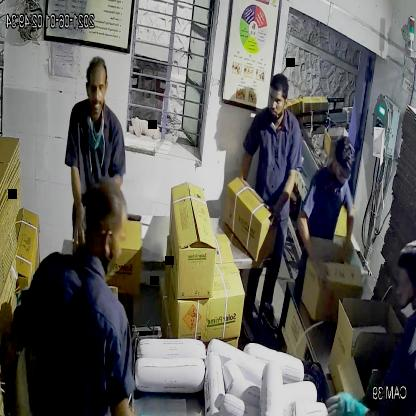goggles: (332, 160, 353, 186)
no_goggles: (80, 75, 112, 103), (267, 93, 291, 112)
